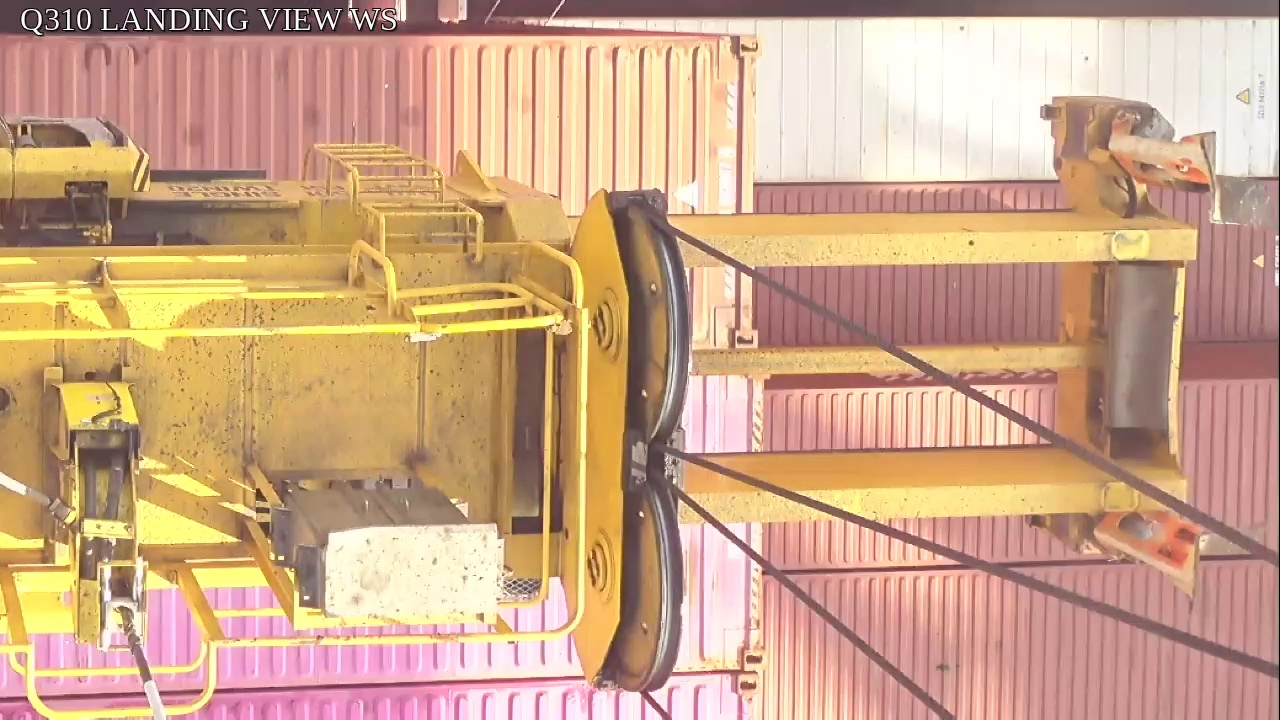right: (568, 189, 688, 697)
